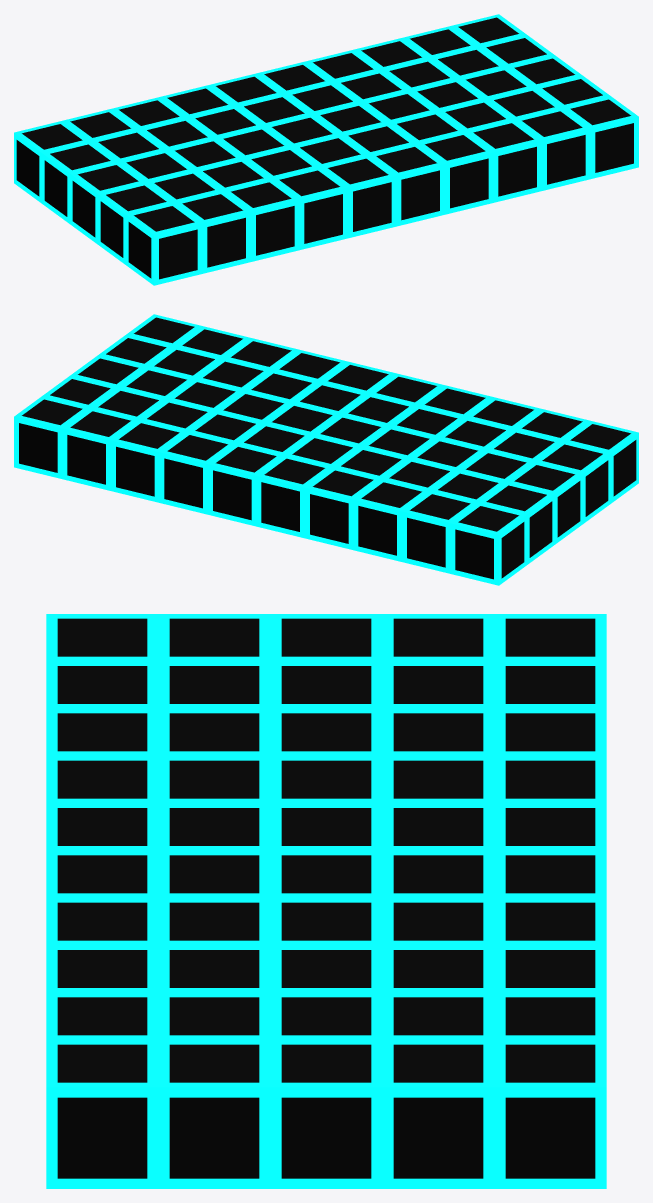
The model's file is Wall.fbx.
3 views of the same model, one above another, from view 1: azimuth 30°, elevation 25°; view 2: azimuth 150°, elevation 25°; view 3: azimuth 270°, elevation 25° (orthographic). The views are drawn at different scales.
Visible parts, largest first — view 1: Cube; view 2: Cube; view 3: Cube.
Boxes of the visible parts, x1=… form: Cube: x1=14, y1=14, x2=638, y2=285; Cube: x1=14, y1=314, x2=638, y2=585; Cube: x1=46, y1=614, x2=606, y2=1188.
Bounding box in the file's own units: 2000 × 200 × 1000.
